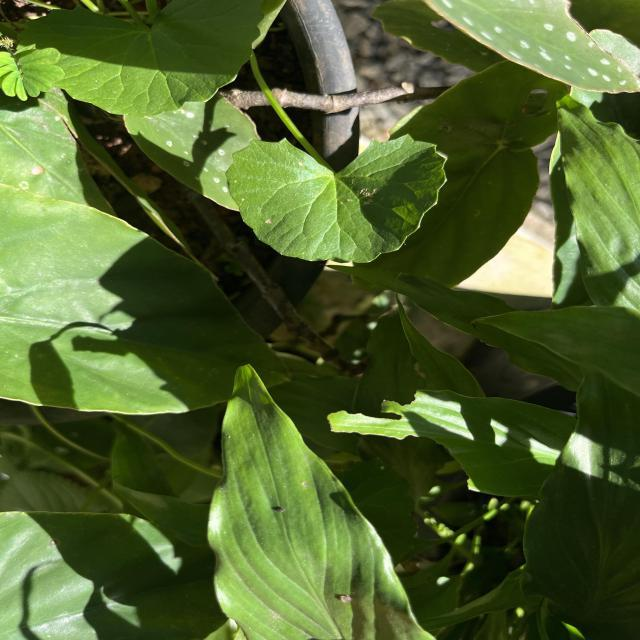Centella asiatica: (222, 132, 452, 266), (14, 0, 269, 119)
